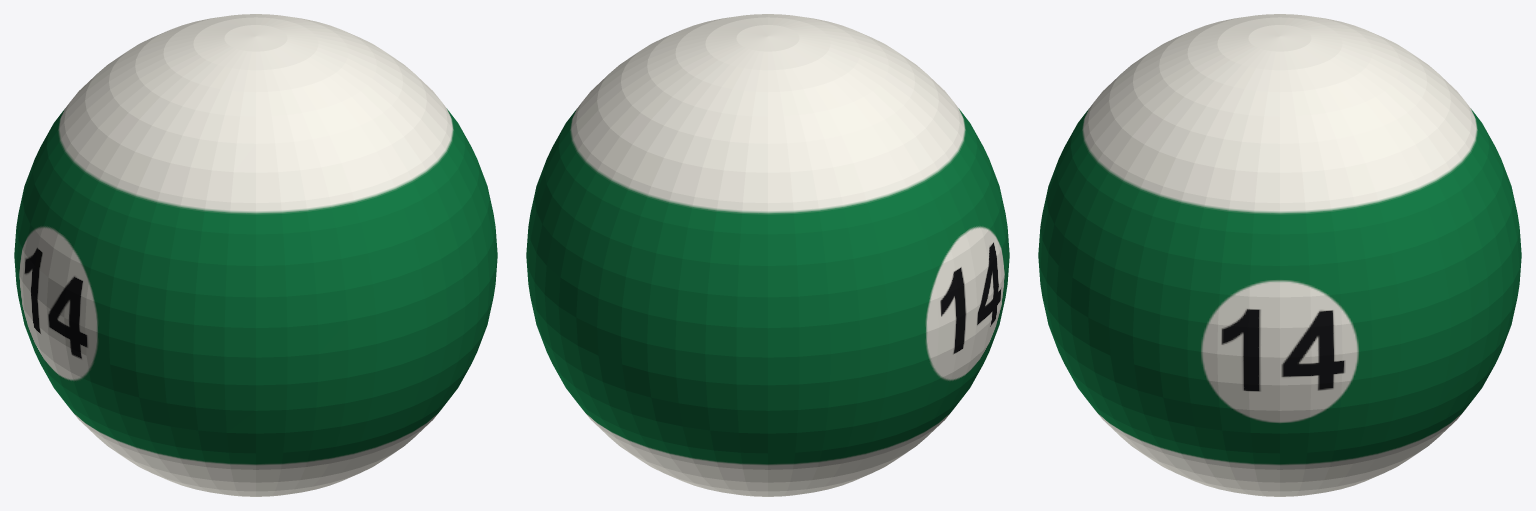
The model's file is ball_14.obj.
The picture shows the model from 3 angles, left to right: view 1: azimuth 30°, elevation 25°; view 2: azimuth 150°, elevation 25°; view 3: azimuth 270°, elevation 25°; orthographic projection.
Size of the model in its own units: 0.0571 by 0.0571 by 0.0571.
Materials: 1 (1 with a texture image).
